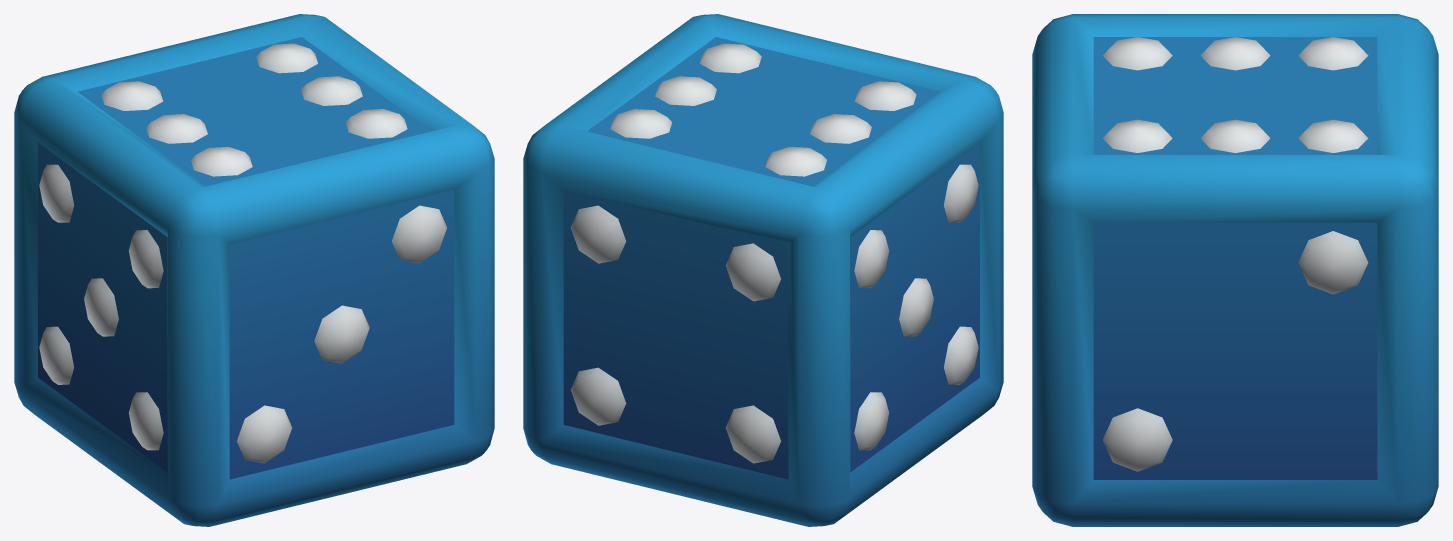
File: D6_B_blue.obj
3 views of the same model, side by side, from view 1: azimuth 30°, elevation 25°; view 2: azimuth 150°, elevation 25°; view 3: azimuth 270°, elevation 25° (orthographic). The views are drawn at different scales.
Parts seen in each view (by area): view 1: D6_B_blue; view 2: D6_B_blue; view 3: D6_B_blue.
Part boxes in pixels (box(x1,y1,x2,y2)): D6_B_blue: box(14, 14, 494, 526); D6_B_blue: box(523, 14, 1003, 526); D6_B_blue: box(1032, 14, 1438, 526).
Bounding box in the file's own units: 0.75 × 0.75 × 0.75.
Materials: 1 (1 with a texture image).
